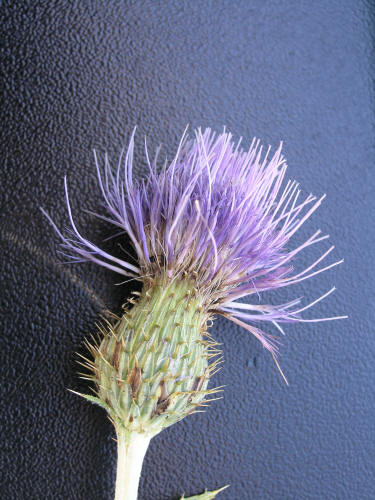thistle: (48, 122, 346, 435)
